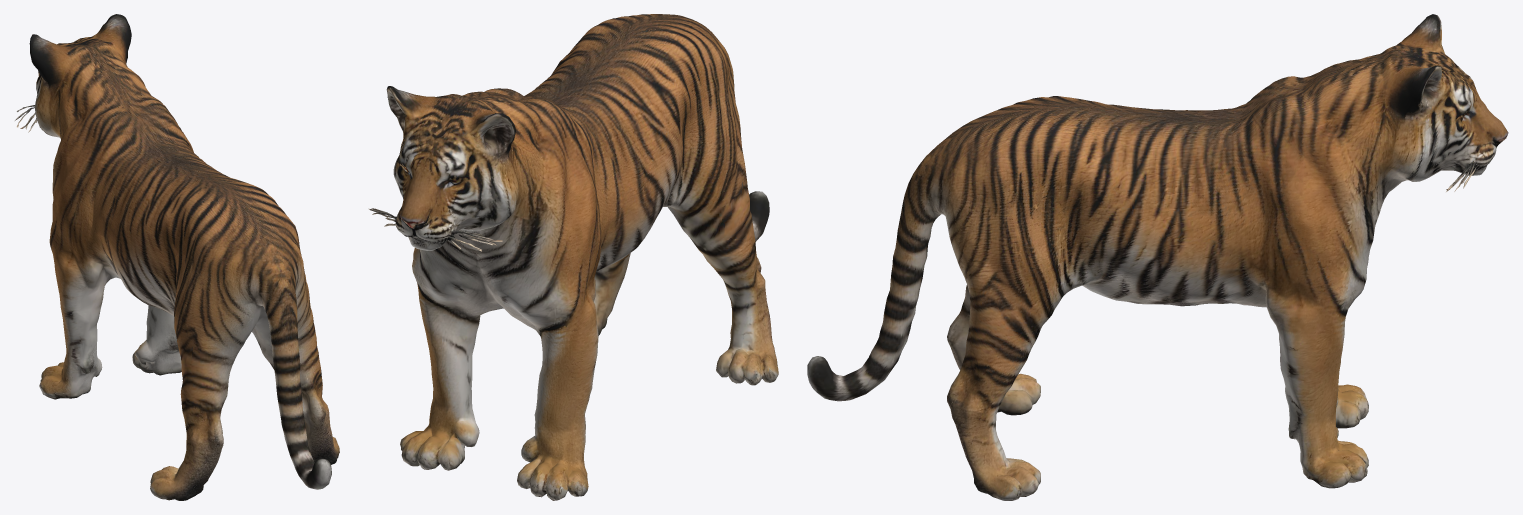
The model's file is Tiger.glb.
3 renders of one model, left to right at view 1: azimuth 30°, elevation 25°; view 2: azimuth 150°, elevation 25°; view 3: azimuth 270°, elevation 25°, orthographic. The views are drawn at different scales.
Parts seen in each view (by area): view 1: tripo_node_303ab367-6562-49e7-a9dd-2bd746006711; view 2: tripo_node_303ab367-6562-49e7-a9dd-2bd746006711; view 3: tripo_node_303ab367-6562-49e7-a9dd-2bd746006711.
Part boxes in pixels (<box>): tripo_node_303ab367-6562-49e7-a9dd-2bd746006711: <box>15,14,339,500</box>; tripo_node_303ab367-6562-49e7-a9dd-2bd746006711: <box>368,14,778,500</box>; tripo_node_303ab367-6562-49e7-a9dd-2bd746006711: <box>807,14,1508,500</box>.
Size of the model in its own units: 0.3848 by 0.6424 by 1.
1 material, 1 textured.
